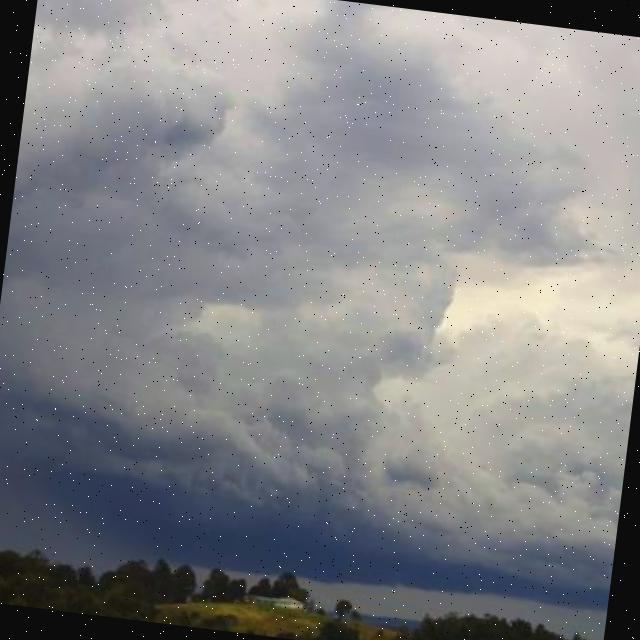Cb: (1, 1, 640, 523)
